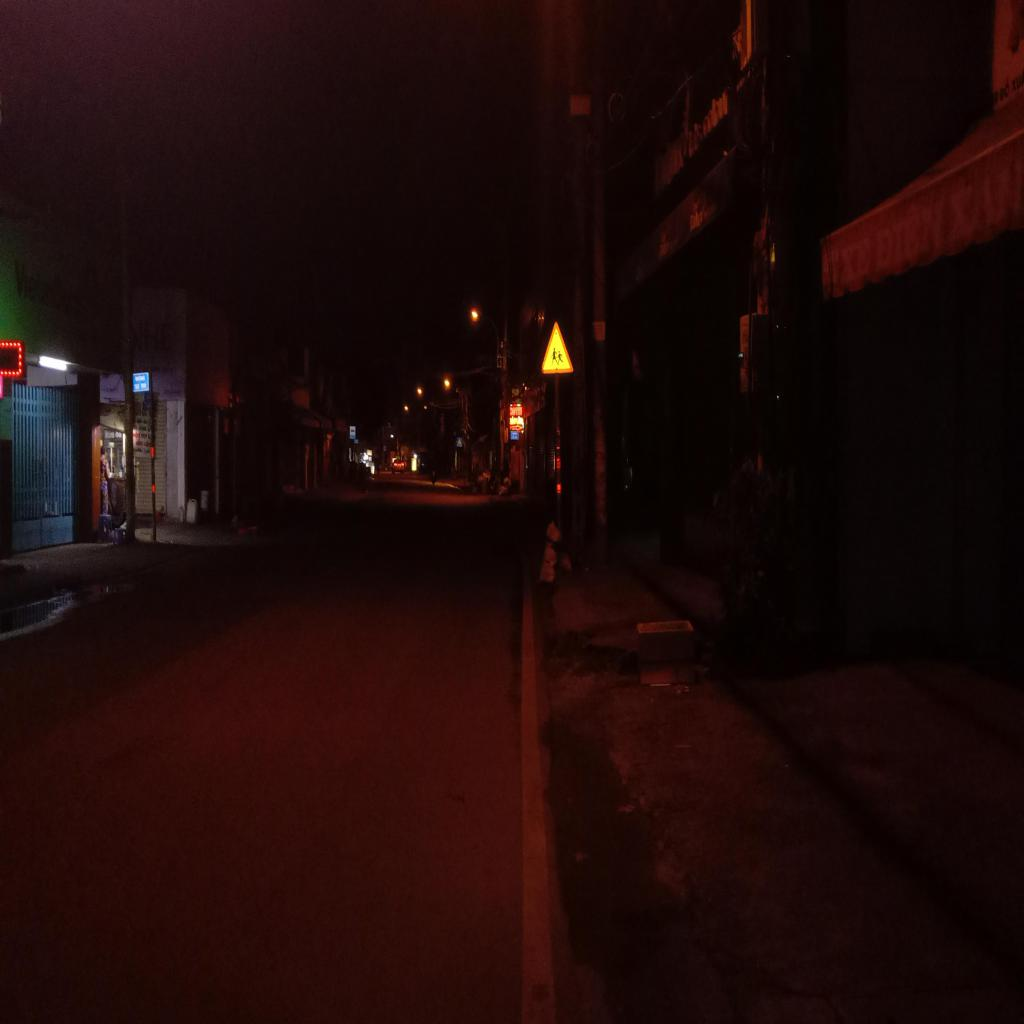chu_y_tre_em: (540, 318, 575, 374)
